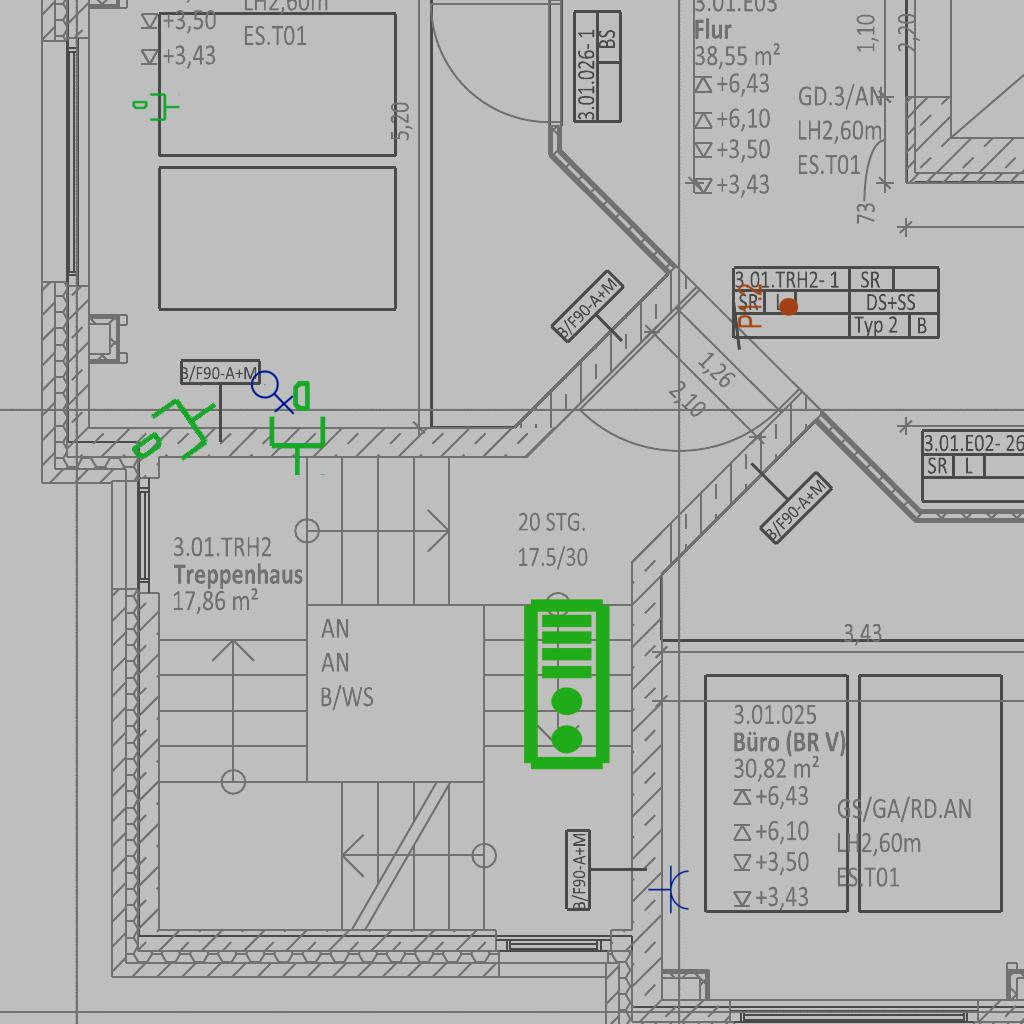Datenanschluss_einfach: (116, 376, 239, 490), (261, 378, 330, 478), (131, 91, 181, 125)
Downlight_LED_Einbauleuchten_Flur: (736, 283, 800, 329)
Elektroanschluss_allgemein_230V_Geraeteanschlussdose_230V: (250, 366, 297, 415)
Gegensprechanlage_mit_Video: (521, 597, 616, 773)
Schukosteckdose_einfach: (648, 865, 691, 915)
